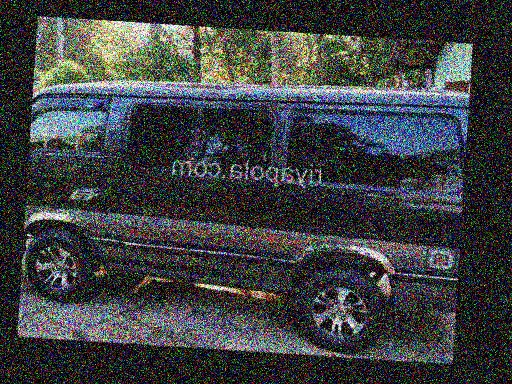van: (20, 59, 470, 330)
